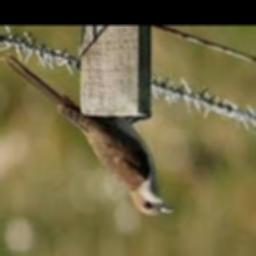Cuckoo: (2, 55, 174, 215)
